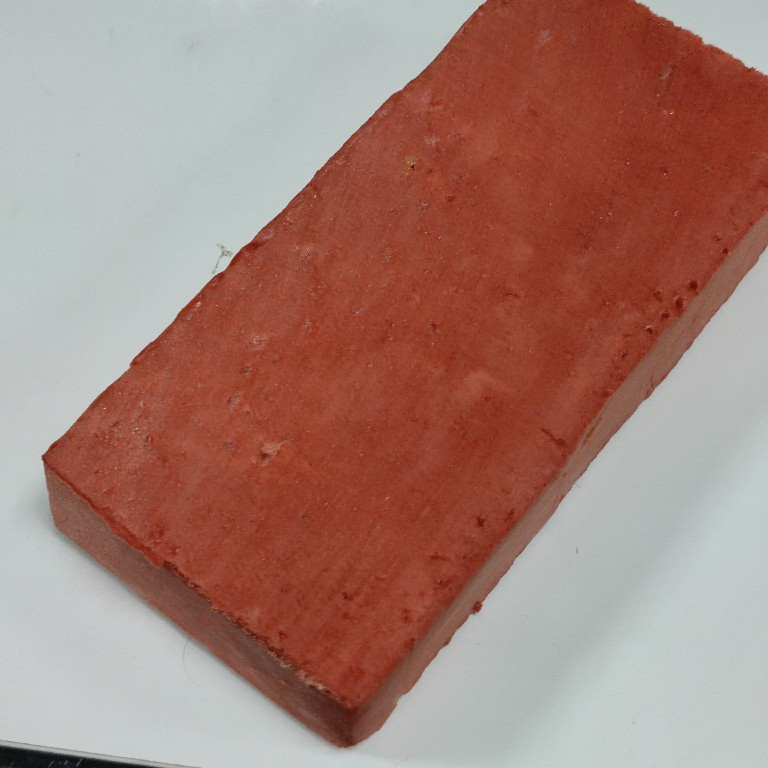brick: (40, 1, 768, 752)
